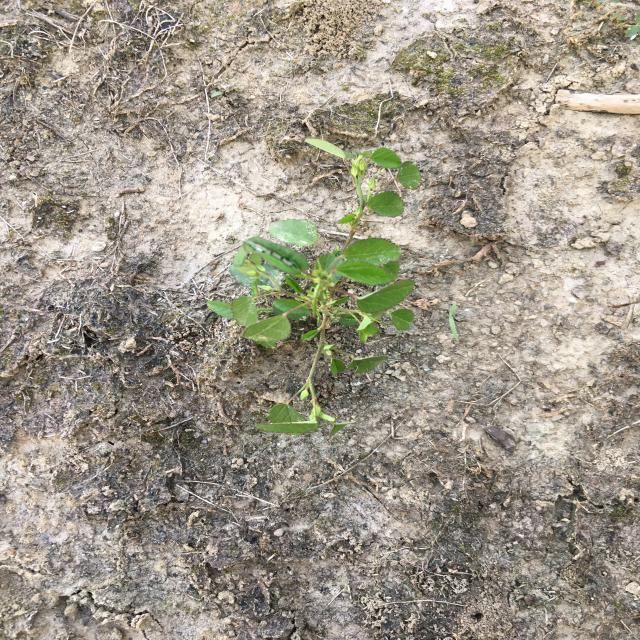PricklySida: (204, 136, 424, 438)
